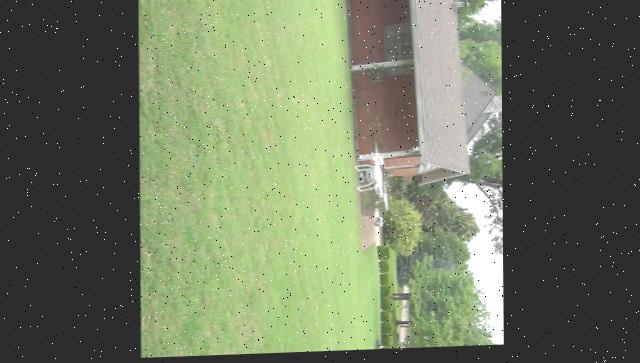drone: (355, 147, 390, 212)
